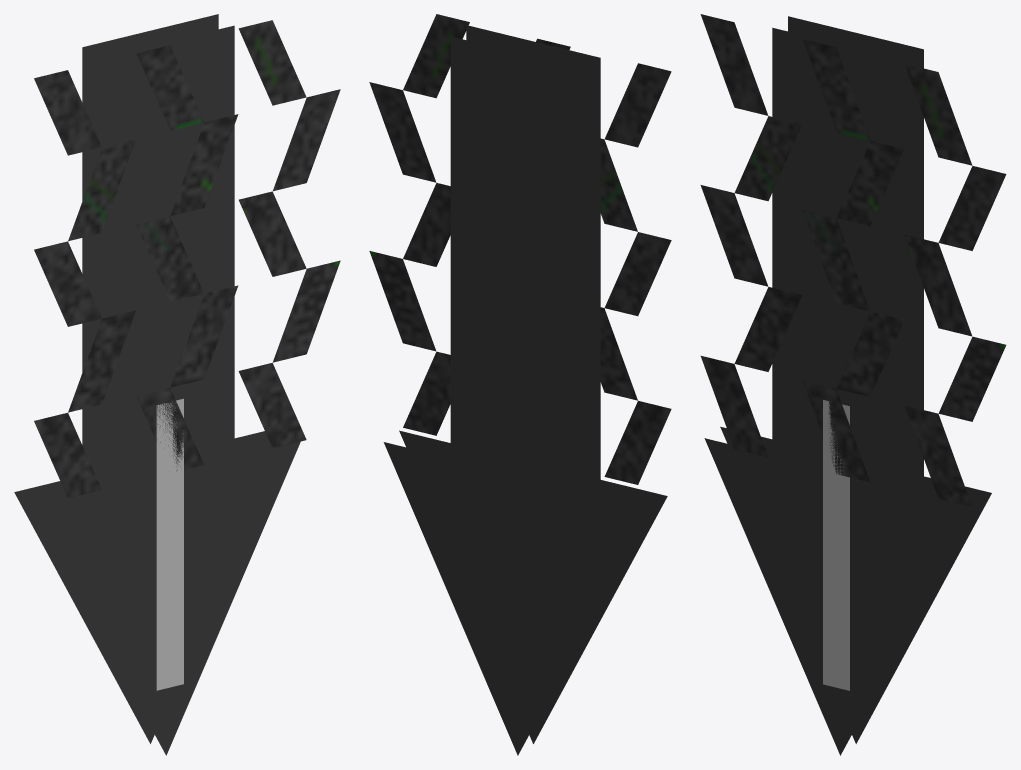
Rendered from arrow_down_tendril.obj.
The picture shows the model from 3 angles, left to right: view 1: azimuth 30°, elevation 25°; view 2: azimuth 150°, elevation 25°; view 3: azimuth 330°, elevation 25°; orthographic projection.
Visible parts, largest first — view 1: ArrowStem, ArrowTendrils, ArrowHead, ArrowGlow; view 2: ArrowStem, ArrowHead, ArrowTendrils; view 3: ArrowStem, ArrowTendrils, ArrowHead, ArrowGlow.
Part boxes in pixels (bbox=[...]): ArrowStem: bbox=[82, 14, 234, 486]; ArrowTendrils: bbox=[34, 20, 340, 498]; ArrowHead: bbox=[14, 431, 300, 755]; ArrowGlow: bbox=[156, 398, 183, 690]; ArrowStem: bbox=[450, 25, 600, 490]; ArrowHead: bbox=[383, 430, 667, 755]; ArrowTendrils: bbox=[369, 14, 671, 484]; ArrowStem: bbox=[772, 16, 923, 487]; ArrowTendrils: bbox=[700, 14, 1006, 506]; ArrowHead: bbox=[704, 426, 991, 755]; ArrowGlow: bbox=[823, 400, 849, 690].
Size of the model in its own units: 0.45 by 1 by 0.05.
3 materials, 2 textured.
